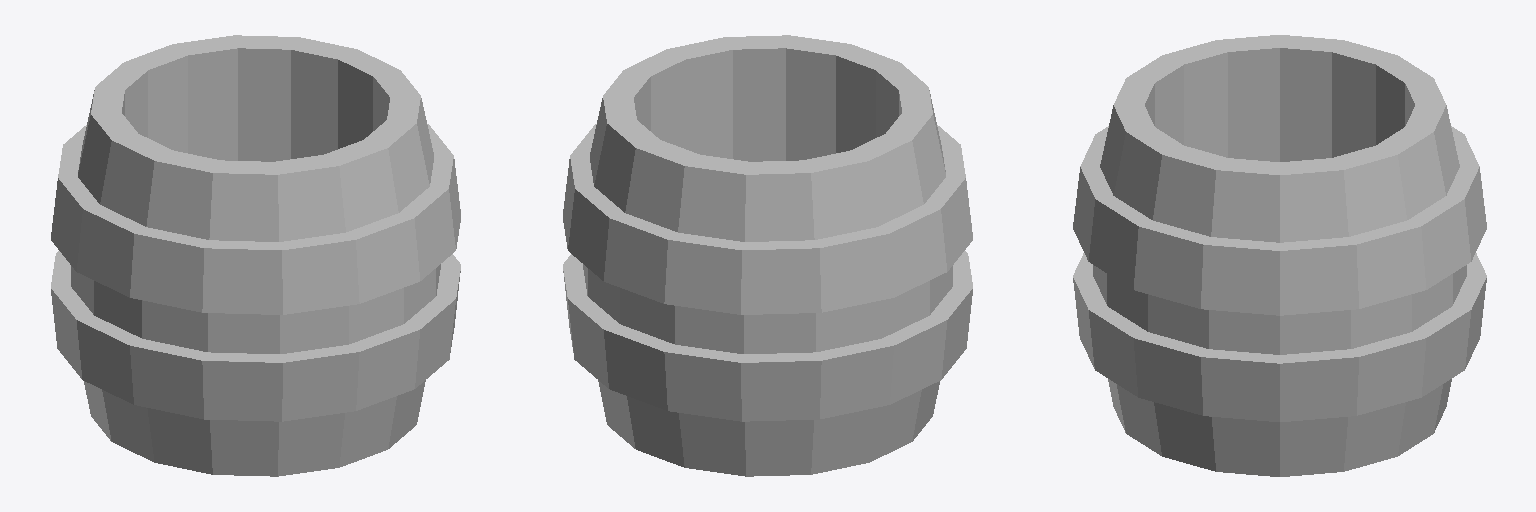
File: barrel_open.obj
3 views of the same model, side by side, from view 1: azimuth 30°, elevation 25°; view 2: azimuth 150°, elevation 25°; view 3: azimuth 270°, elevation 25° (orthographic).
Visible parts, largest first — view 1: Cylinder.001; view 2: Cylinder.001; view 3: Cylinder.001.
Part boxes in pixels (x1,y1,x2,y2): Cylinder.001: (51, 35, 460, 476); Cylinder.001: (563, 35, 972, 476); Cylinder.001: (1073, 35, 1486, 476).
Bounding box in the file's own units: 2.49 × 2 × 2.49.